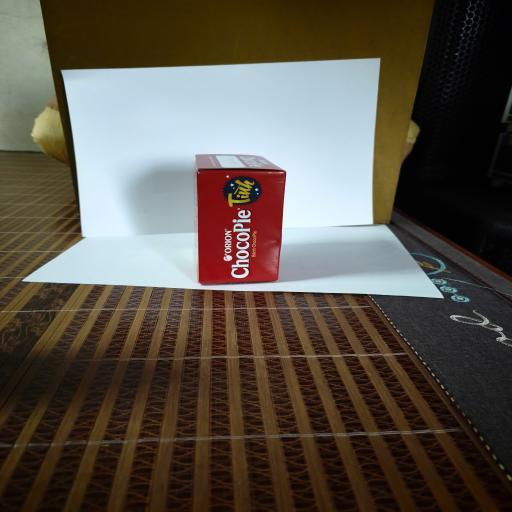chocopie: (195, 154, 286, 285)
